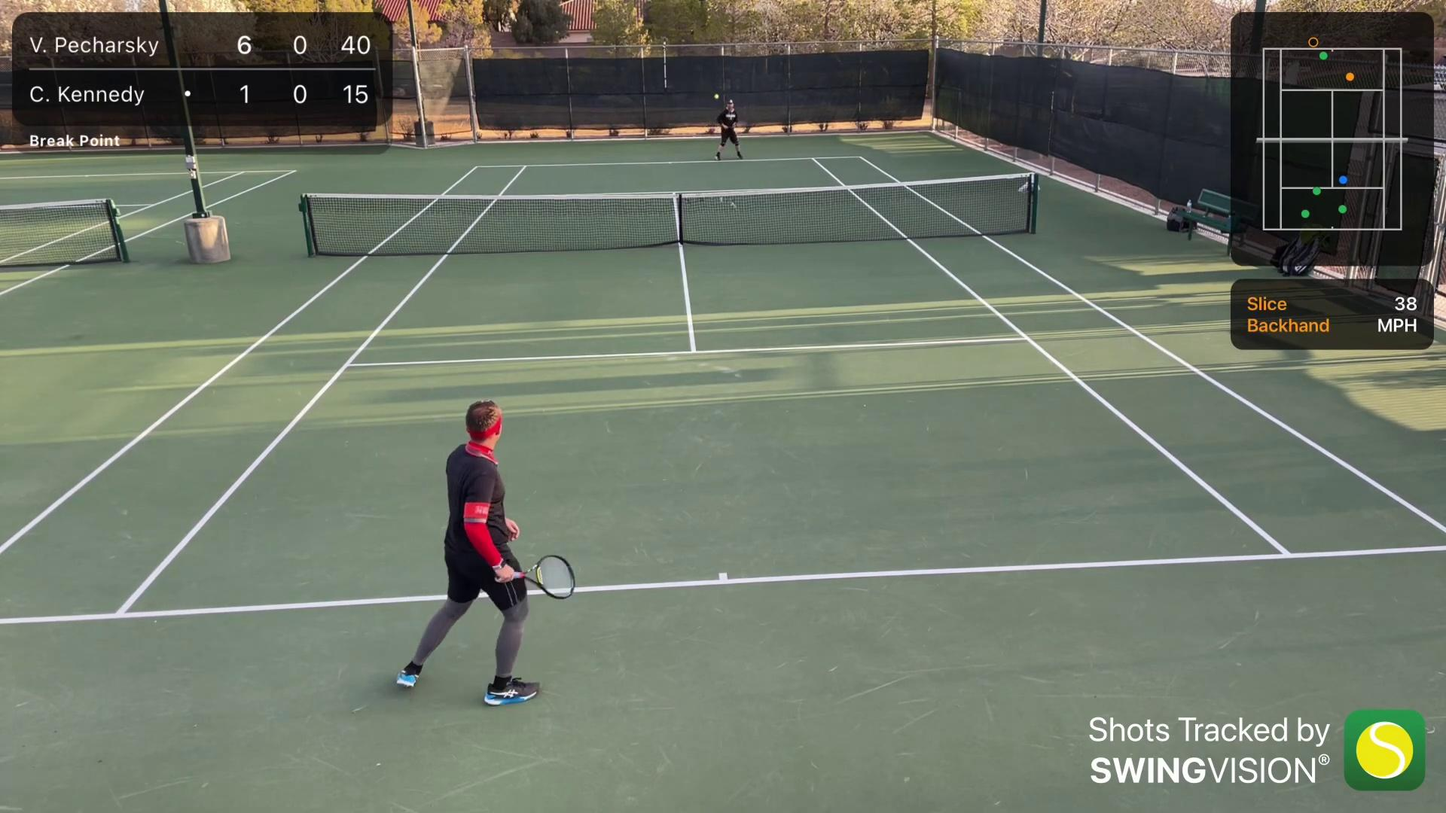ball: (713, 93, 719, 100)
